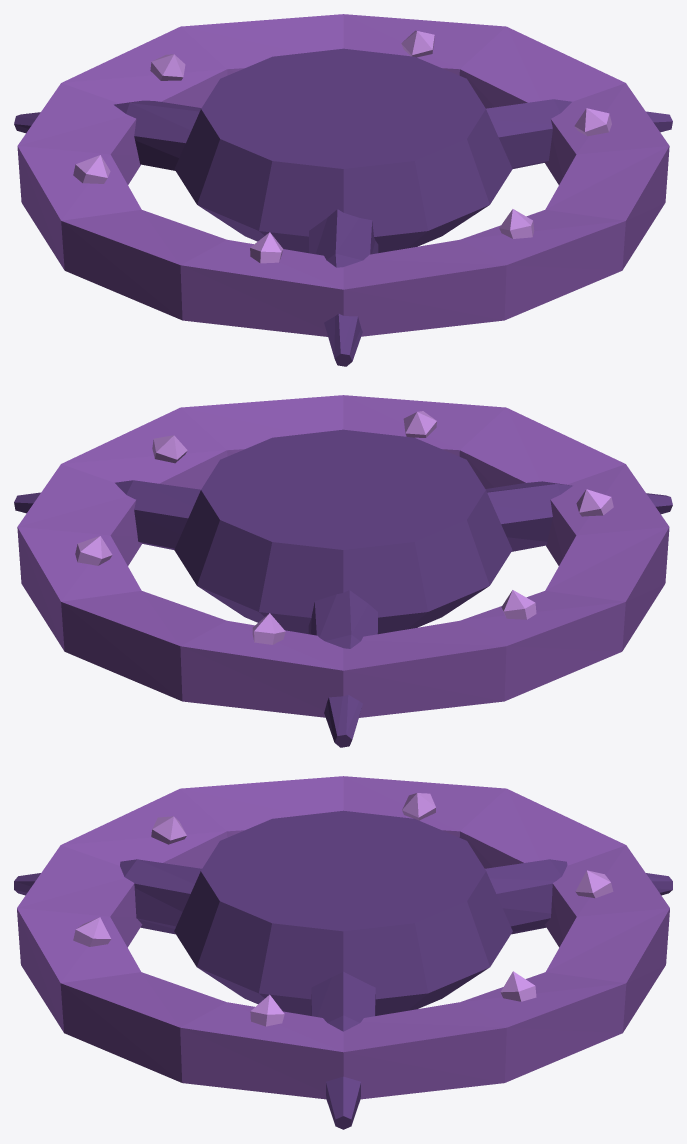
The model's file is AmethystRoot.obj.
3 renders of one model, top to bottom at view 1: azimuth 30°, elevation 25°; view 2: azimuth 150°, elevation 25°; view 3: azimuth 270°, elevation 25°, orthographic.
Parts seen in each view (by area): view 1: AmethystRoot_AmethystGeodeRim, AmethystRoot_AmethystRootCore, AmethystRoot_AmethystRootCrystals; view 2: AmethystRoot_AmethystGeodeRim, AmethystRoot_AmethystRootCore, AmethystRoot_AmethystRootCrystals; view 3: AmethystRoot_AmethystGeodeRim, AmethystRoot_AmethystRootCore, AmethystRoot_AmethystRootCrystals.
Boxes of the visible parts, x1,y1,x2,y2 form: AmethystRoot_AmethystGeodeRim: [17, 14, 669, 336]; AmethystRoot_AmethystRootCore: [14, 48, 672, 366]; AmethystRoot_AmethystRootCrystals: [73, 30, 611, 263]; AmethystRoot_AmethystGeodeRim: [17, 395, 669, 717]; AmethystRoot_AmethystRootCore: [14, 429, 672, 747]; AmethystRoot_AmethystRootCrystals: [75, 411, 613, 644]; AmethystRoot_AmethystGeodeRim: [17, 776, 669, 1099]; AmethystRoot_AmethystRootCore: [14, 810, 672, 1129]; AmethystRoot_AmethystRootCrystals: [73, 793, 613, 1026].
Bounding box in the file's own units: 3.7 × 0.6 × 3.46.
